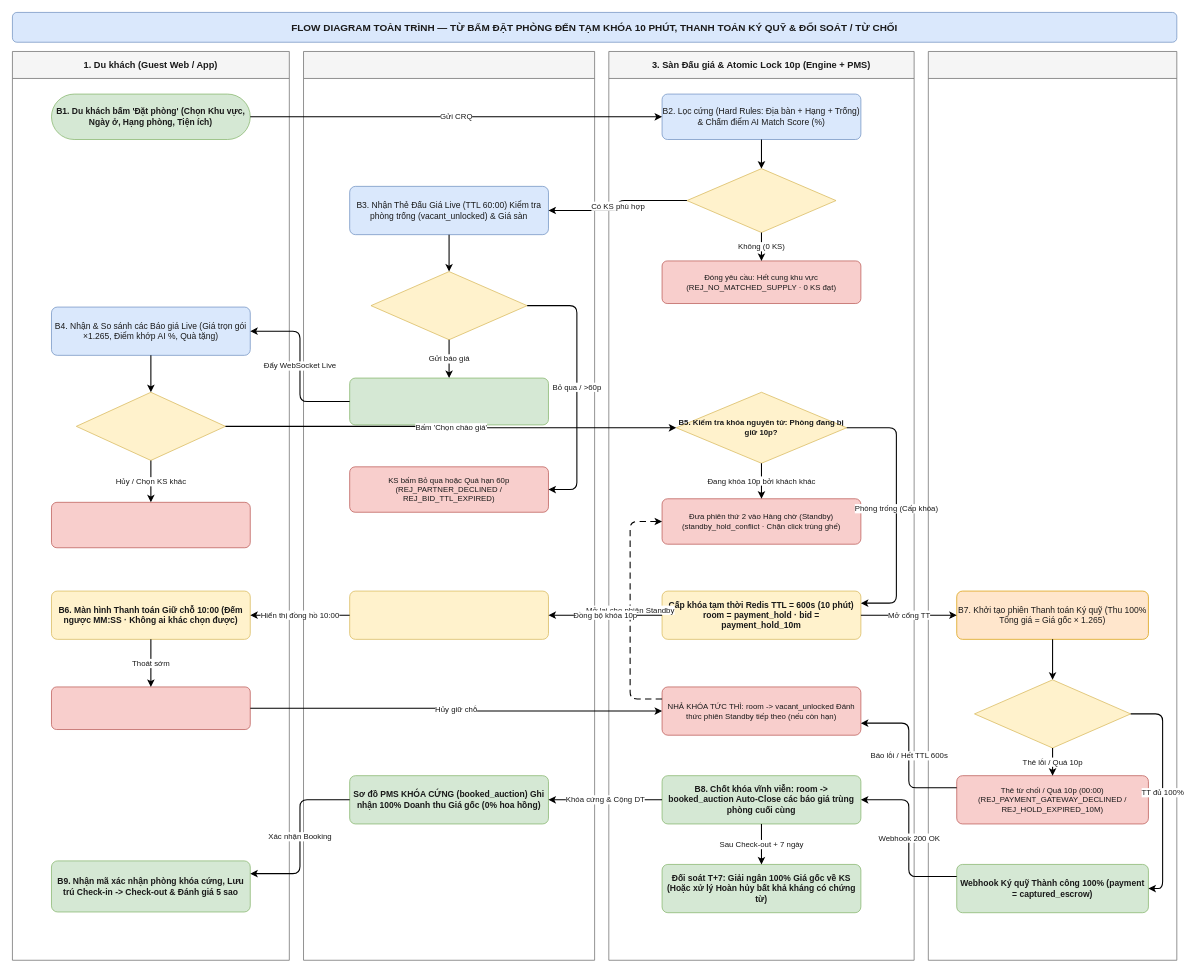
This 1196x973 diagram has some shape labels left out. Each missing label, with the box of its shape:
2. Khách sạn Đối tác (Partner Hub): (303, 51, 595, 960)
4. Cổng Thanh toán & Ký quỹ (Escrow T+7): (928, 51, 1177, 960)
AI Auto-Bid hoặc Lễ tân báo giá <60p?: (370, 271, 527, 340)
Có KS khớp quỹ phòng?: (686, 168, 836, 233)
Khách bấm Thoát Checkout sớm (REJ_GUEST_ABANDONED_HOLD): (51, 686, 250, 730)
Khách chọn 1 chào giá?: (76, 392, 225, 460)
Khách hủy yêu cầu / Chọn đối thủ (REJ_GUEST_CANCELLED / REJ_PRICE_HIGH): (51, 502, 250, 548)
Kết quả TT trong 10:00?: (974, 679, 1131, 748)
Phát hành Báo giá 1 lần (One-Shot) (bid_sent · Phòng VẪN MỞ cho phiên khác): (349, 377, 548, 425)
Sơ đồ PMS đổi sang TẠM KHÓA 10P (Chặn Lễ tân khóa tay đè · Đếm ngược thực tế): (349, 590, 548, 639)
